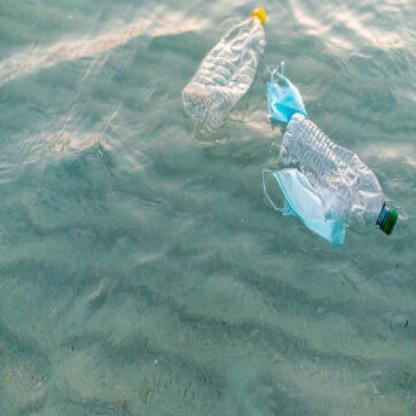plastic bottle: (279, 113, 400, 235), (183, 6, 268, 125)
